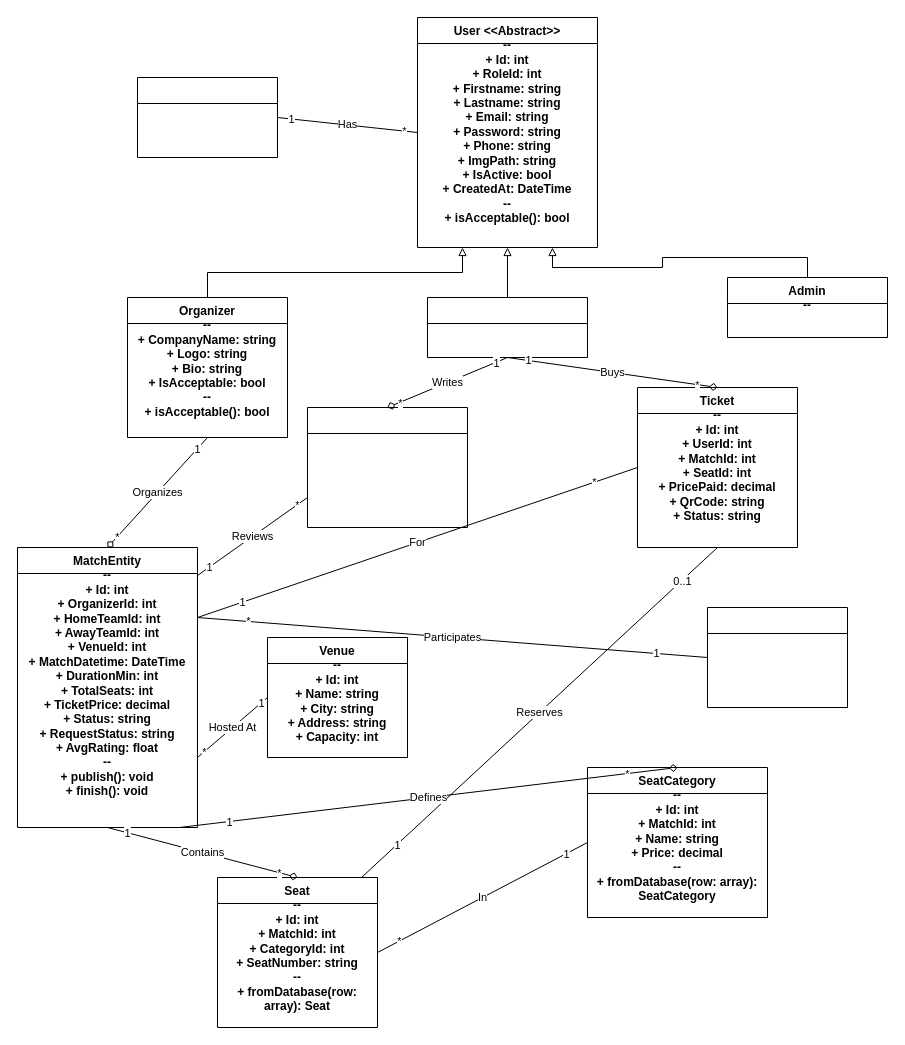
The diagram is 905 pixels wide and 1045 high, and some of its shapes have lost their labels. The shapes that lost their labels are listed below. From the top down, each one's box as (x1, y1, x2, y2) in pixels, then its label:
(136, 76, 278, 158): Role -- + Id: int + Name: string
(426, 296, 588, 358): Buyer --
(306, 406, 468, 528): Review -- + Id: int + UserId: int + MatchId: int + Rating: int + Comment: string
(706, 606, 848, 708): Team -- + Id: int + Name: string + Logo: string
